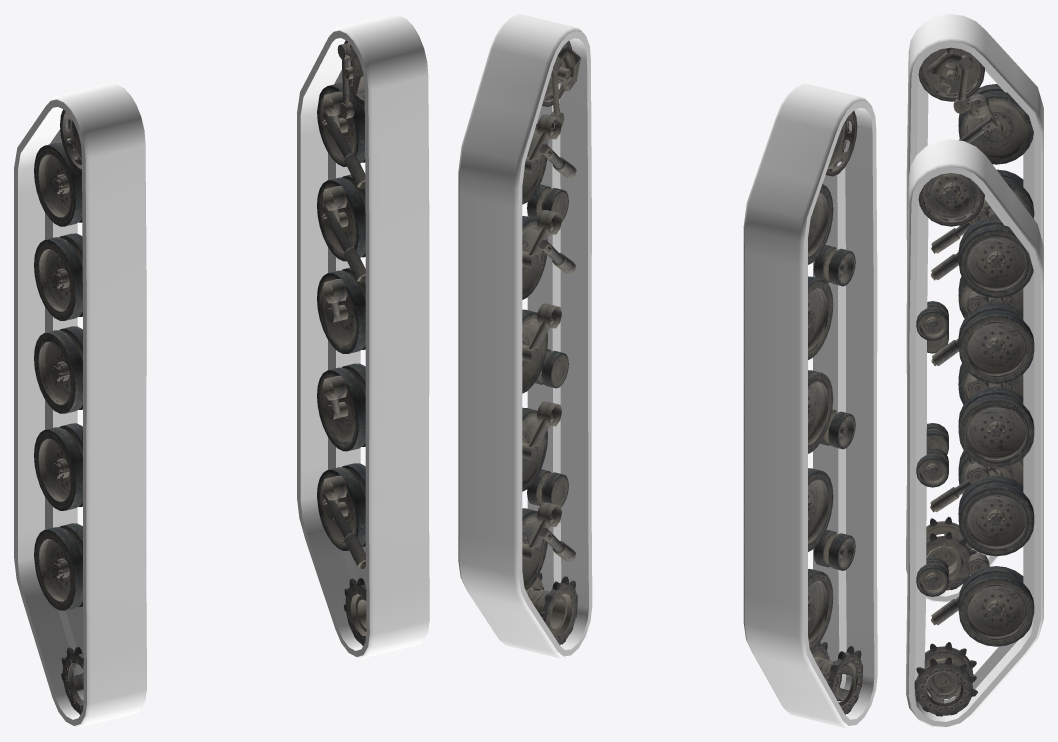
Rendered from Chassis.glb.
3 renders of one model, left to right at view 1: azimuth 30°, elevation 25°; view 2: azimuth 150°, elevation 25°; view 3: azimuth 270°, elevation 25°, orthographic. The views are drawn at different scales.
Parts seen in each view (by area): view 1: set_3_group_0, set_2_group_0, set_0_group_0, set_1_group_0; view 2: set_3_group_0, set_2_group_0, set_0_group_0, set_1_group_0; view 3: set_0_group_0, set_2_group_0, set_1_group_0, set_3_group_0.
Boxes of the visible parts, <box> form: set_3_group_0: <box>14,83,146,727</box>; set_2_group_0: <box>297,14,429,658</box>; set_0_group_0: <box>317,40,366,645</box>; set_1_group_0: <box>34,109,83,714</box>; set_3_group_0: <box>743,83,877,727</box>; set_2_group_0: <box>458,14,592,658</box>; set_0_group_0: <box>522,41,580,644</box>; set_1_group_0: <box>808,110,862,714</box>; set_0_group_0: <box>914,173,1034,716</box>; set_2_group_0: <box>906,139,1043,727</box>; set_1_group_0: <box>918,47,1034,590</box>; set_3_group_0: <box>906,14,1043,602</box>.
Bounding box in the file's own units: 3.06 × 5.32 × 1.18.
Materials: 4 (2 with a texture image).
